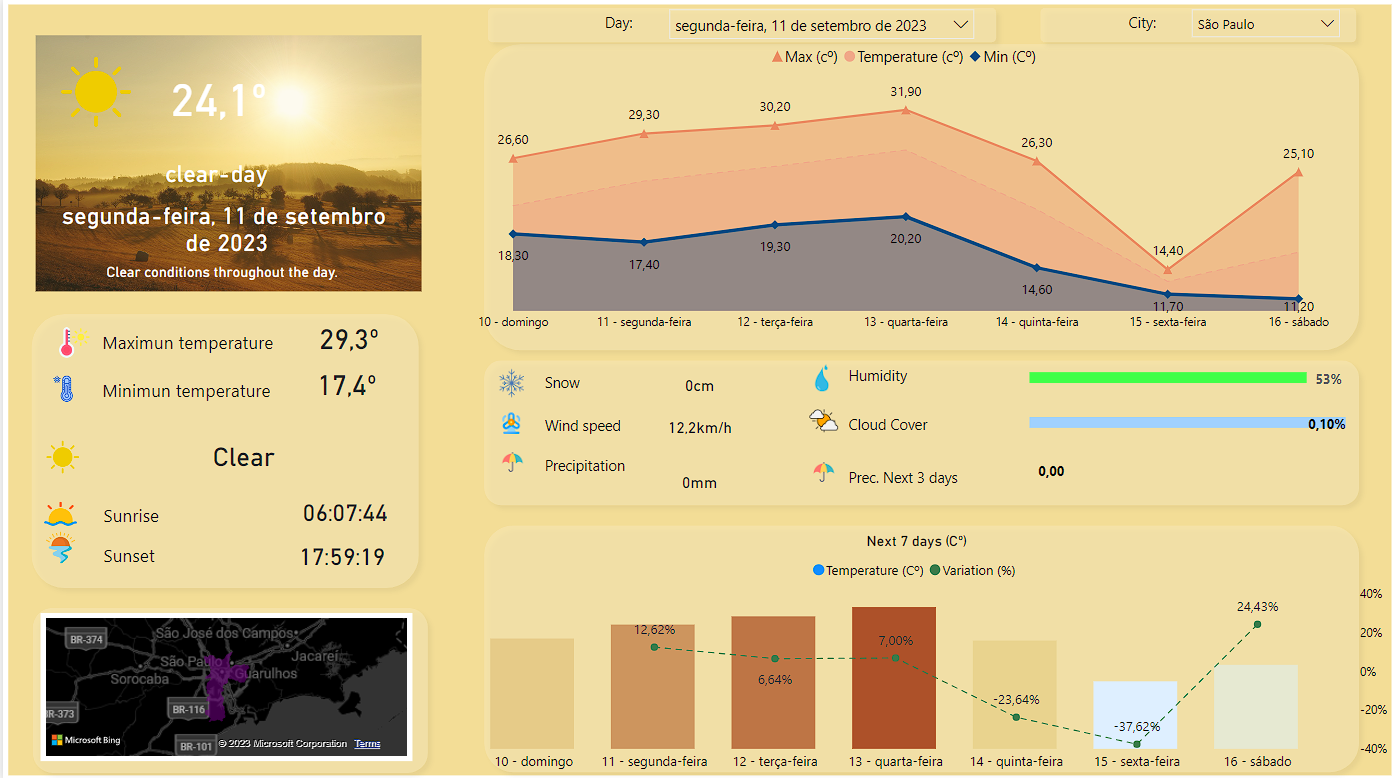

The page's visual inventory and layout, read from the dashboard file:
{"tool":"powerbi","page":{"name":"Dashboard Weather","canvas":[1280,720],"ordinal":0},"visuals":[{"type":"cardVisual","fields":{"Data":["Max(Condicoes.conditions)"]},"box":[0,1.4,1280.3,718.7],"z":0},{"type":"cardVisual","fields":{"Data":["Max(Condicoes.conditions)"]},"box":[8.8,13,401,282.4],"z":1000},{"type":"shape","box":[16.7,280.8,373.9,269.7],"z":2000},{"type":"shape","box":[18.1,550.5,380.9,169.6],"z":3000},{"type":"shape","box":[432.3,475.4,821.5,244.7],"z":4000},{"type":"shape","box":[432.3,33.4,821.5,298.9],"z":5000},{"type":"shape","box":[432.3,323.9,821.5,151.5],"z":6000},{"type":"shape","box":[436.6,0,484.8,49.7],"z":7000},{"type":"shape","box":[943.6,0,308.3,49.4],"z":8000},{"type":"areaChart","title":"Next 7 days","fields":{"Category":["Dim_calendar.WeekDay/DayName"],"Y":["Sum(Temperatura.feelslikemax)","Sum(Temperatura.temp)","Sum(Temperatura.feelslikemin)"]},"box":[416.1,33.8,827.3,281],"z":9000},{"type":"slicer","fields":{"Values":["Dim_City.Cidade"]},"box":[1081.8,0,156.8,41],"z":10000},{"type":"card","fields":{"Values":["Max(Temperatura.Temp_)"]},"box":[129.6,43.3,136.9,92.9],"z":11000},{"type":"card","fields":{"Values":["Max(Temperatura.Maxima)"]},"box":[279.4,291.9,77.8,41.7],"z":12000},{"type":"card","fields":{"Values":["Min(Temperatura.Temp_min)"]},"box":[278,332.2,76.5,45.9],"z":13000},{"type":"card","fields":{"Values":["Max(Condicoes.conditions)"]},"box":[75.1,397.6,293.3,47.3],"z":14000},{"type":"barChart","title":"Huminade","fields":{"Category":["Condicoes.City"],"Y":["Medidas.Umidade"]},"box":[938.3,315.6,300.3,61.2],"z":15000},{"type":"barChart","fields":{"Category":["Condicoes.City"],"Y":["Medidas.CloudOver"]},"box":[938.3,354.5,300.3,65.3],"z":16000},{"type":"card","fields":{"Values":["Min(Dim_calendar.Date)"]},"box":[34.2,177.7,342.3,68.5],"z":17000},{"type":"card","fields":{"Values":["Max(Condicoes.icon)"]},"box":[74.6,143.3,243.3,35.4],"z":18000},{"type":"card","fields":{"Values":["Max(Condicoes.description)"]},"box":[29.3,232,342.3,42.8],"z":19000},{"type":"textbox","box":[85.6,299.1,177.3,37.4],"z":20000},{"type":"textbox","box":[86.2,344.7,176.5,33.4],"z":21000},{"type":"card","fields":{"Values":["Min(Condicoes.show)"]},"box":[601.4,342.3,77,25.7],"z":22000},{"type":"card","fields":{"Values":["Min(Condicoes.Wind_speed)"]},"box":[601.4,381.4,77,25.7],"z":23000},{"type":"card","fields":{"Values":["Min(Condicoes.Perciptacao)"]},"box":[601.4,431.5,77,25.7],"z":24000},{"type":"barChart","fields":{"Category":["Condicoes.City"],"Y":["Sum(Condicoes.precip)"]},"box":[938.3,398,300.3,65.1],"z":25000},{"type":"card","fields":{"Values":["Max(Condicoes.sunrise - hr)"]},"box":[253,444.8,123.7,55.6],"z":26000},{"type":"card","fields":{"Values":["Max(Condicoes.sunset - hr)"]},"box":[253,496.3,118.2,33.4],"z":27000},{"type":"lineStackedColumnComboChart","title":"Next 7 days (Cº)","fields":{"Category":["Dim_calendar.WeekDay/DayName"],"Y":["Medidas.Temperatura"],"Y2":["Medidas.Dif_day"]},"box":[398.5,491.4,881.4,228.6],"z":28000},{"type":"textbox","box":[492.9,338.7,108.8,30.3],"z":29000},{"type":"textbox","box":[492.9,378.7,108.8,30.3],"z":30000},{"type":"textbox","box":[492.9,415.8,108.8,38.6],"z":31000},{"type":"textbox","box":[771.9,332.9,115.8,31.4],"z":32000},{"type":"textbox","box":[771.9,377.5,111,27.7],"z":33000},{"type":"textbox","box":[771.9,425.7,144.7,38.6],"z":34000},{"type":"cardVisual","fields":{"Data":["Max(Condicoes.conditions)"]},"box":[28.9,33.2,118.4,102.5],"z":35000},{"type":"filledMap","fields":{"Category":["Dim_City.Cidade"],"Series":["Temperatura.temp"]},"box":[34.8,564.4,342,136.2],"z":36000},{"type":"textbox","box":[87.6,458.7,76.5,33.4],"z":37000},{"type":"textbox","box":[87.6,496.3,77.8,33.4],"z":38000},{"type":"cardVisual","fields":{"Data":["Max(Condicoes.conditions)"]},"box":[16.7,387.8,79.2,66.7],"z":39000},{"type":"slicer","fields":{"Values":["Dim_calendar.Date"]},"box":[601.8,0,300.3,42.2],"z":40000},{"type":"cardVisual","fields":{"Data":["Min(Tb_icones_fixos.Name)"]},"box":[28.9,283.7,78.5,62],"z":41000},{"type":"cardVisual","fields":{"Data":["Min(Tb_icones_fixos.Name)"]},"box":[17.9,326.3,78.5,62],"z":42000},{"type":"cardVisual","fields":{"Data":["Min(Tb_icones_fixos.Name)"]},"box":[16.5,440.6,78.5,62],"z":43000},{"type":"cardVisual","fields":{"Data":["Min(Tb_icones_fixos.Name)"]},"box":[16.5,472.3,78.5,62],"z":44000},{"type":"cardVisual","fields":{"Data":["Min(Tb_icones_fixos.Name)"]},"box":[432.4,323.6,73,48.2],"z":45000},{"type":"cardVisual","fields":{"Data":["Min(Tb_icones_fixos.Name)"]},"box":[432.4,360.8,73,48.2],"z":46000},{"type":"cardVisual","fields":{"Data":["Min(Tb_icones_fixos.Name)"]},"box":[433.7,396.6,73,48.2],"z":47000},{"type":"cardVisual","fields":{"Data":["Min(Tb_icones_fixos.Name)"]},"box":[720.1,318.1,73,55.1],"z":48000},{"type":"cardVisual","fields":{"Data":["Min(Tb_icones_fixos.Name)"]},"box":[720.1,358,73,55.1],"z":49000},{"type":"cardVisual","fields":{"Data":["Min(Tb_icones_fixos.Name)"]},"box":[720.1,404.8,73,48.2],"z":50000},{"type":"textbox","box":[1028.7,8.4,68.7,32.6],"z":51000},{"type":"textbox","box":[547.5,8.4,68.7,32.6],"z":52000}]}

Visuals, with their boxes in screenshot pixels (x1, y1, x2, y2), scaled from the page's 1280x720 canvas onto the 1397x778 screenshot:
cardVisual - Max(Condicoes.conditions): <box>0,2,1396,777</box>
cardVisual - Max(Condicoes.conditions): <box>10,14,447,319</box>
shape: <box>18,303,426,595</box>
shape: <box>20,595,435,777</box>
shape: <box>472,514,1368,777</box>
shape: <box>472,36,1368,359</box>
shape: <box>472,350,1368,514</box>
shape: <box>477,0,1006,54</box>
shape: <box>1030,0,1366,53</box>
"Next 7 days" areaChart: <box>454,37,1357,340</box>
slicer - Dim_City.Cidade: <box>1181,0,1352,44</box>
card - Max(Temperatura.Temp_): <box>141,47,291,147</box>
card - Max(Temperatura.Maxima): <box>305,315,390,360</box>
card - Min(Temperatura.Temp_min): <box>303,359,387,409</box>
card - Max(Condicoes.conditions): <box>82,430,402,481</box>
"Huminade" barChart: <box>1024,341,1352,407</box>
barChart - Condicoes.City x Medidas.CloudOver: <box>1024,383,1352,454</box>
card - Min(Dim_calendar.Date): <box>37,192,411,266</box>
card - Max(Condicoes.icon): <box>81,155,347,193</box>
card - Max(Condicoes.description): <box>32,251,406,297</box>
textbox: <box>93,323,287,364</box>
textbox: <box>94,372,287,409</box>
card - Min(Condicoes.show): <box>656,370,740,398</box>
card - Min(Condicoes.Wind_speed): <box>656,412,740,440</box>
card - Min(Condicoes.Perciptacao): <box>656,466,740,494</box>
barChart - Condicoes.City x Sum(Condicoes.precip): <box>1024,430,1352,500</box>
card - Max(Condicoes.sunrise - hr): <box>276,481,411,541</box>
card - Max(Condicoes.sunset - hr): <box>276,536,405,572</box>
"Next 7 days (Cº)" lineStackedColumnComboChart: <box>435,531,1396,777</box>
textbox: <box>538,366,657,399</box>
textbox: <box>538,409,657,442</box>
textbox: <box>538,449,657,491</box>
textbox: <box>842,360,969,394</box>
textbox: <box>842,408,964,438</box>
textbox: <box>842,460,1000,502</box>
cardVisual - Max(Condicoes.conditions): <box>32,36,161,147</box>
filledMap - Dim_City.Cidade x Temperatura.temp: <box>38,610,411,757</box>
textbox: <box>96,496,179,532</box>
textbox: <box>96,536,181,572</box>
cardVisual - Max(Condicoes.conditions): <box>18,419,105,491</box>
slicer - Dim_calendar.Date: <box>657,0,985,46</box>
cardVisual - Min(Tb_icones_fixos.Name): <box>32,307,117,374</box>
cardVisual - Min(Tb_icones_fixos.Name): <box>20,353,105,420</box>
cardVisual - Min(Tb_icones_fixos.Name): <box>18,476,104,543</box>
cardVisual - Min(Tb_icones_fixos.Name): <box>18,510,104,577</box>
cardVisual - Min(Tb_icones_fixos.Name): <box>472,350,552,402</box>
cardVisual - Min(Tb_icones_fixos.Name): <box>472,390,552,442</box>
cardVisual - Min(Tb_icones_fixos.Name): <box>473,429,553,481</box>
cardVisual - Min(Tb_icones_fixos.Name): <box>786,344,866,403</box>
cardVisual - Min(Tb_icones_fixos.Name): <box>786,387,866,446</box>
cardVisual - Min(Tb_icones_fixos.Name): <box>786,437,866,489</box>
textbox: <box>1123,9,1198,44</box>
textbox: <box>598,9,673,44</box>
